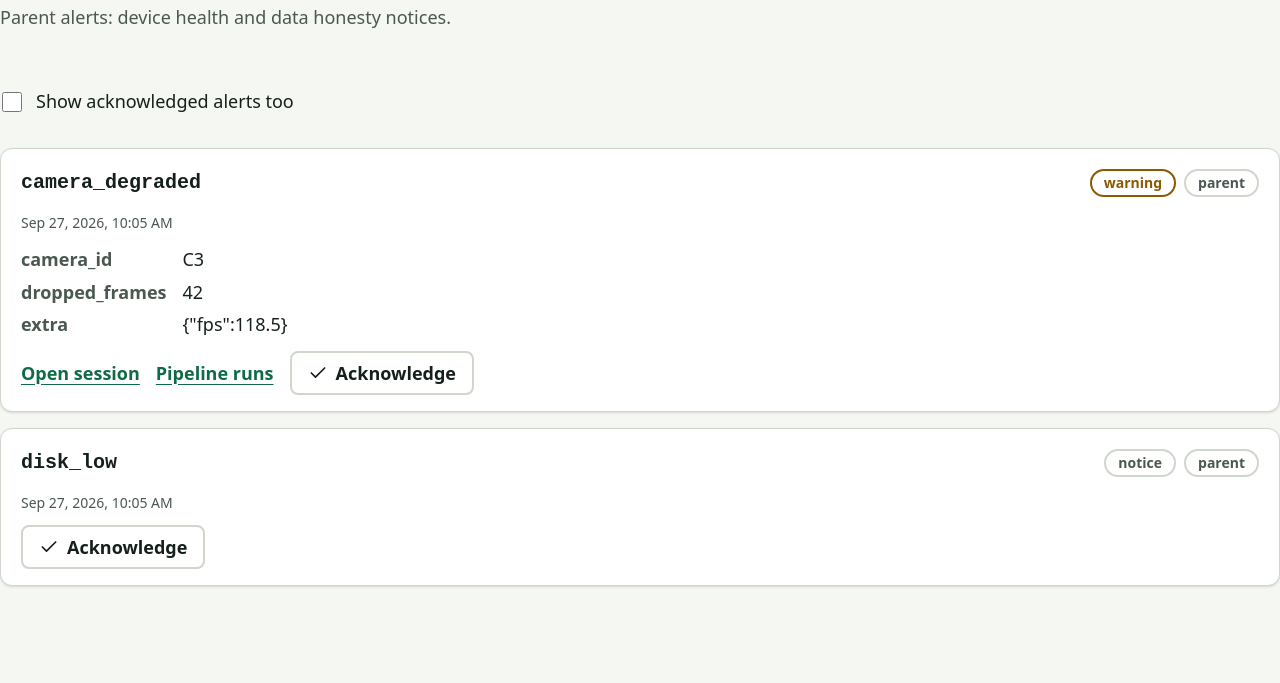
it: inbox (data parity) › includes acknowledged alerts on request
Expected: the list item with test id "alert-a1" is shown, [0,148,1279,412]
What coordinates should you click on to do the following:
click the checkbox labelled "Show acknowledged alerts too"
I would click on:
 (12, 102)
Its box is [0,92,24,112].
(page scrolled)
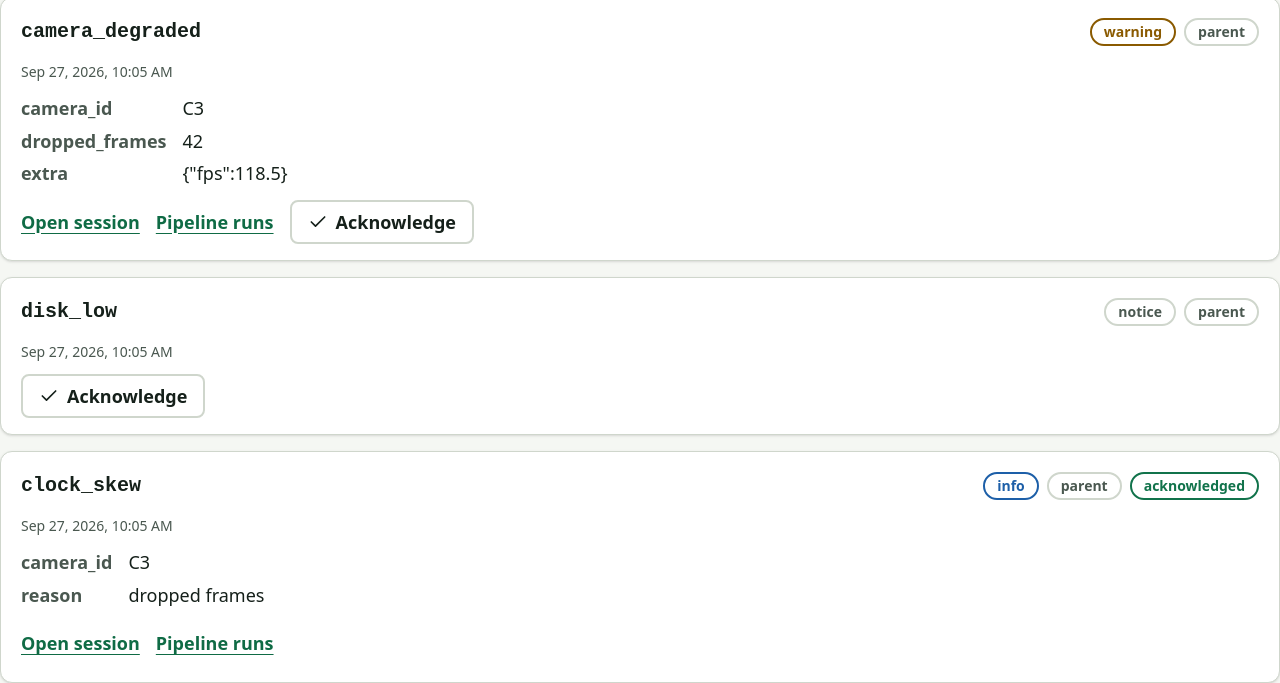
Expected: the list item with test id "alert-a3" shows "acknowledged", [1144,476,1245,495]
